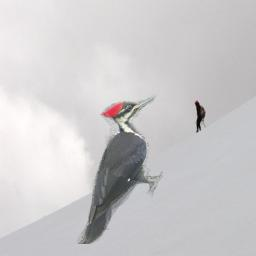Woodpecker: (77, 94, 163, 244)
